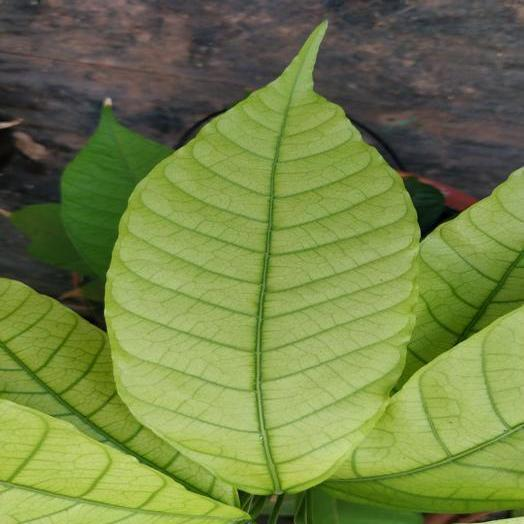Healthy Leaf: (61, 99, 171, 280)
Iron: (106, 23, 418, 494), (0, 278, 237, 505), (324, 306, 523, 512), (0, 400, 248, 523), (400, 167, 523, 385)
